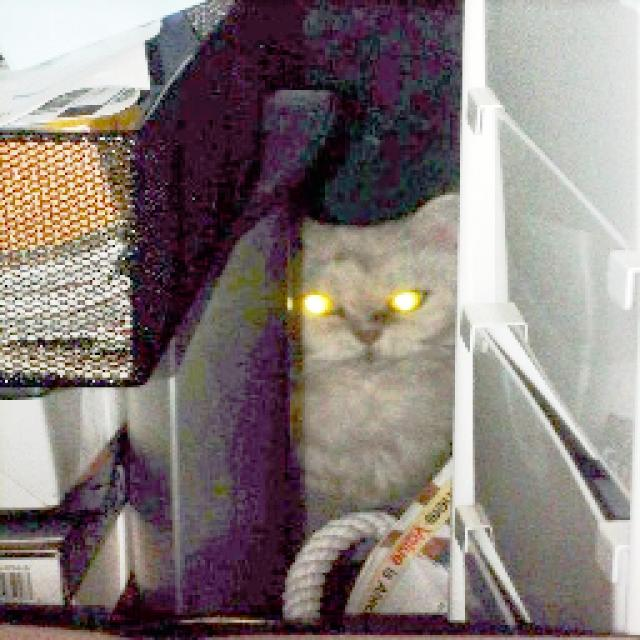cat: (225, 144, 505, 536)
